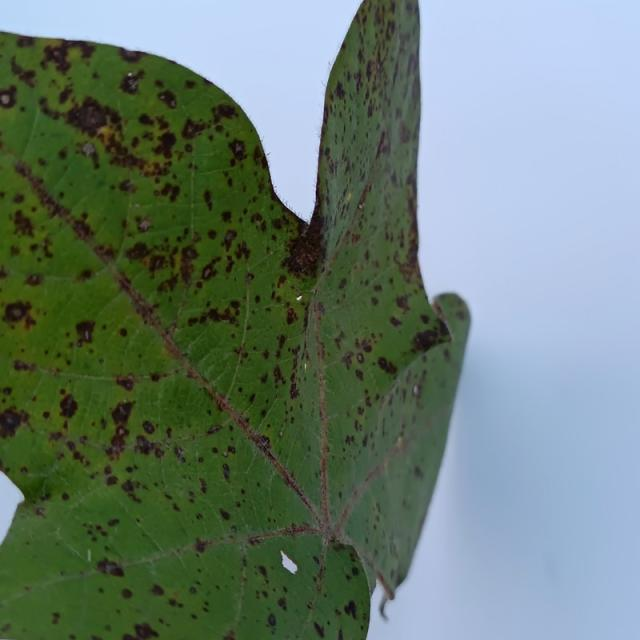Bacterial_Blight: (10, 151, 98, 254), (283, 210, 325, 275), (118, 278, 164, 329), (37, 38, 92, 77), (392, 227, 424, 288), (69, 101, 111, 136), (188, 302, 240, 329), (69, 314, 104, 350), (0, 407, 27, 438), (2, 300, 33, 326), (412, 327, 443, 353), (10, 208, 36, 239), (371, 129, 389, 172), (178, 249, 197, 289), (154, 130, 178, 160), (354, 179, 374, 215), (96, 557, 125, 578), (110, 400, 133, 425), (58, 392, 79, 419), (431, 315, 452, 341), (120, 72, 142, 95), (132, 621, 159, 639), (109, 428, 129, 451), (228, 137, 247, 161), (125, 242, 149, 261), (214, 103, 239, 121), (0, 84, 18, 109), (376, 355, 397, 376), (221, 229, 239, 253), (156, 90, 178, 109), (135, 436, 153, 456), (398, 122, 413, 146), (115, 374, 136, 391), (272, 363, 286, 388), (119, 48, 142, 63), (394, 293, 411, 312), (296, 215, 310, 238), (12, 359, 36, 372), (343, 599, 357, 620), (121, 478, 136, 495), (365, 59, 377, 80), (24, 273, 43, 286), (194, 538, 209, 554), (259, 151, 271, 171), (271, 214, 285, 231), (285, 307, 298, 325), (120, 179, 136, 193), (256, 434, 270, 450), (141, 420, 155, 435), (341, 352, 354, 368), (174, 446, 186, 463), (250, 213, 264, 227), (220, 210, 233, 224), (184, 247, 198, 260), (82, 142, 95, 156), (150, 584, 165, 596), (289, 382, 299, 400), (222, 462, 231, 481), (198, 477, 208, 494), (314, 621, 324, 638), (219, 508, 231, 521), (120, 588, 133, 600), (139, 218, 151, 231), (276, 275, 287, 289), (207, 424, 222, 434), (277, 596, 287, 610), (354, 368, 364, 382), (413, 465, 423, 479), (35, 506, 47, 517), (202, 267, 213, 279), (258, 565, 268, 578), (149, 372, 162, 382), (267, 613, 276, 627), (107, 518, 120, 527), (51, 612, 60, 625), (6, 414, 16, 425), (356, 352, 365, 363), (192, 231, 201, 242), (351, 565, 359, 577), (119, 327, 128, 337), (246, 272, 254, 282), (222, 634, 235, 640), (189, 586, 197, 595), (230, 524, 237, 533), (222, 450, 228, 457)
Cotton: (0, 0, 470, 639)
